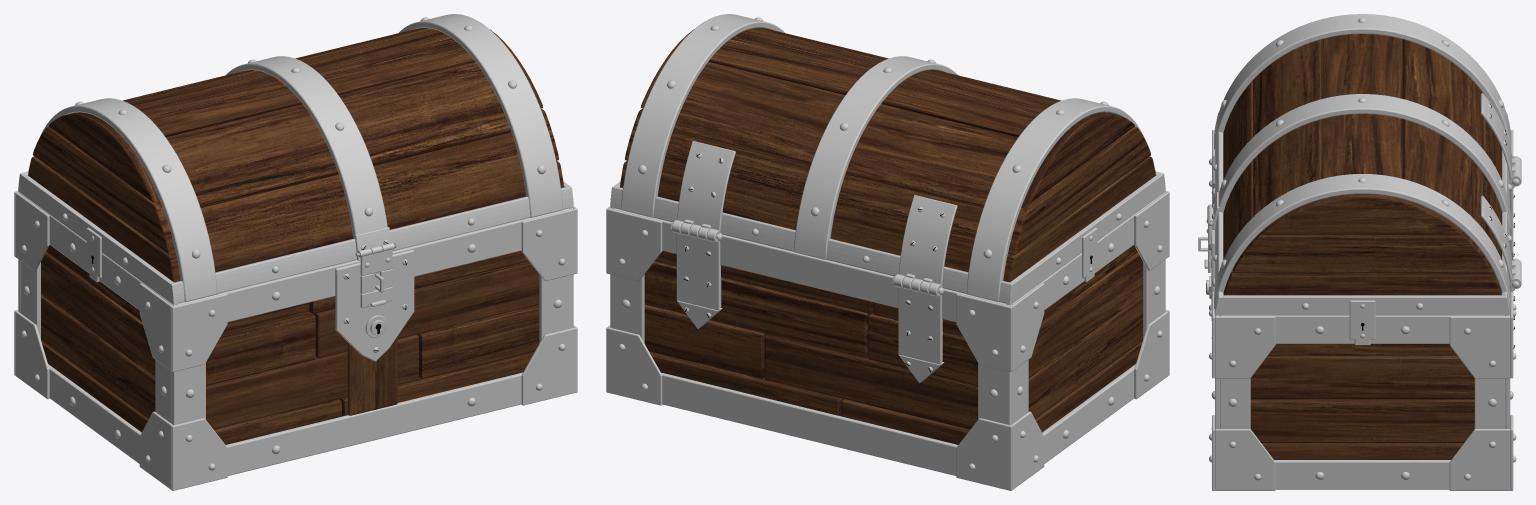
The model's file is chest.obj.
The picture shows the model from 3 angles, left to right: view 1: azimuth 30°, elevation 25°; view 2: azimuth 150°, elevation 25°; view 3: azimuth 270°, elevation 25°; orthographic projection. The views are drawn at different scales.
Visible parts, largest first — view 1: Chest_Lid_Wood, Chest_Body_Metal, Chest_Body_Wood, Chest_Lid_Metal, Chest_Lid_Hasp; view 2: Chest_Lid_Wood, Chest_Body_Metal, Chest_Body_Wood, Chest_Lid_Metal; view 3: Chest_Lid_Wood, Chest_Lid_Metal, Chest_Body_Metal, Chest_Body_Wood.
Part boxes in pixels (<box>): Chest_Lid_Wood: <box>28,28,563,282</box>; Chest_Body_Metal: <box>14,191,577,490</box>; Chest_Body_Wood: <box>41,245,539,444</box>; Chest_Lid_Metal: <box>18,14,573,304</box>; Chest_Lid_Hasp: <box>360,245,392,308</box>; Chest_Lid_Wood: <box>620,28,1155,282</box>; Chest_Body_Metal: <box>606,191,1169,490</box>; Chest_Body_Wood: <box>644,245,1142,444</box>; Chest_Lid_Metal: <box>610,14,1165,304</box>; Chest_Lid_Wood: <box>1223,34,1501,295</box>; Chest_Lid_Metal: <box>1207,14,1521,345</box>; Chest_Body_Metal: <box>1198,130,1521,490</box>; Chest_Body_Wood: <box>1250,344,1474,459</box>.
Size of the model in its own units: 0.631 by 0.463 by 0.4535.
